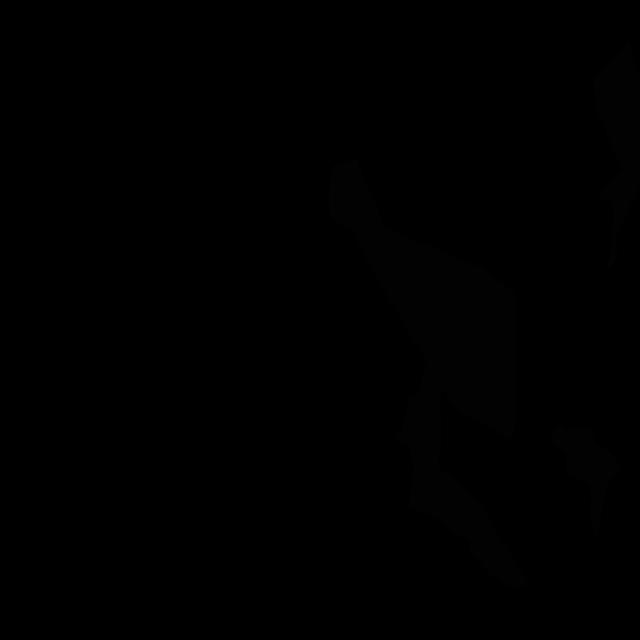cardboard: (329, 159, 516, 441), (396, 362, 530, 587), (593, 40, 640, 273), (550, 420, 620, 539)
